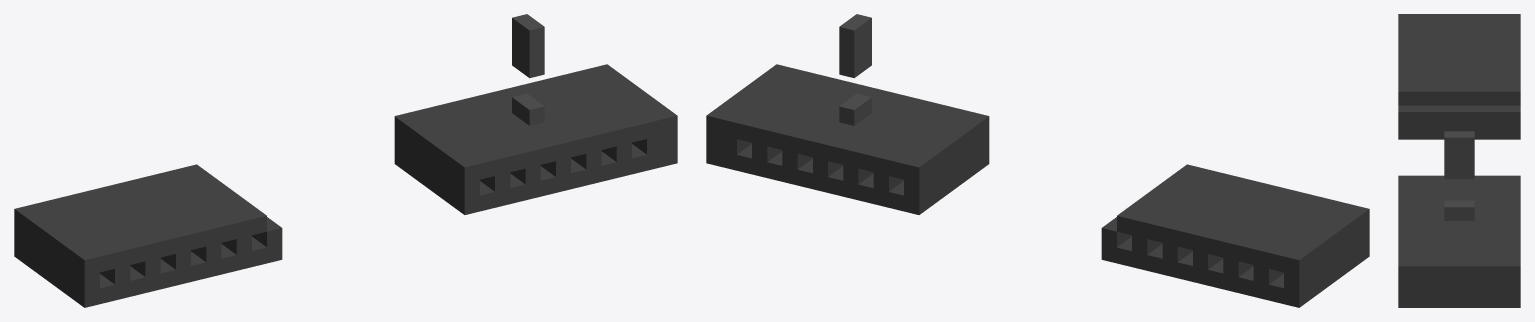
Rendered from 黑漫反射.obj.
The picture shows the model from 3 angles, left to right: view 1: azimuth 30°, elevation 25°; view 2: azimuth 150°, elevation 25°; view 3: azimuth 270°, elevation 25°; orthographic projection. The views are drawn at different scales.
Size of the model in its own units: 3.9 by 0.9 by 0.8.
